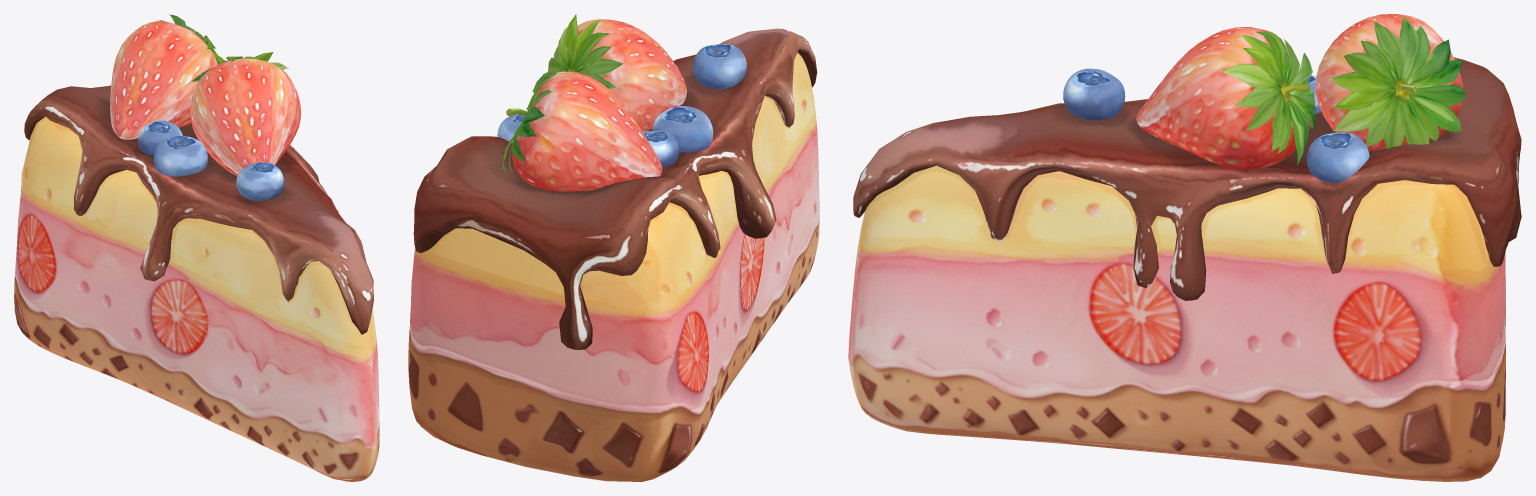
The model's file is handpainted_watercolor_cake.glb.
3 renders of one model, left to right at view 1: azimuth 30°, elevation 25°; view 2: azimuth 150°, elevation 25°; view 3: azimuth 270°, elevation 25°, orthographic. The views are drawn at different scales.
Visible parts, largest first — view 1: cake001, frosting001, berries001, strawberry001; view 2: cake001, frosting001, berries001, strawberry001, leaves003, leaves004, blueberry001; view 3: cake001, frosting001, strawberry001, leaves004, berries001, leaves003, blueberry001.
Boxes of the visible parts, x1,y1,x2,y2 form: cake001: (14,116,379,481); frosting001: (24,60,373,334); berries001: (110,21,284,201); strawberry001: (190,58,300,175); cake001: (408,53,819,481); frosting001: (413,28,817,349); berries001: (512,44,746,191); strawberry001: (577,19,686,131); leaves003: (532,14,623,92); leaves004: (502,68,564,174); blueberry001: (497,114,524,142); cake001: (848,165,1505,481); frosting001: (853,57,1521,300); strawberry001: (1136,27,1310,169); leaves004: (1329,16,1465,148); berries001: (1063,14,1462,150); leaves003: (1221,31,1315,165); blueberry001: (1306,132,1369,183).
Size of the model in its own units: 2.73 by 3.44 by 5.01.
1 material, 1 textured.
